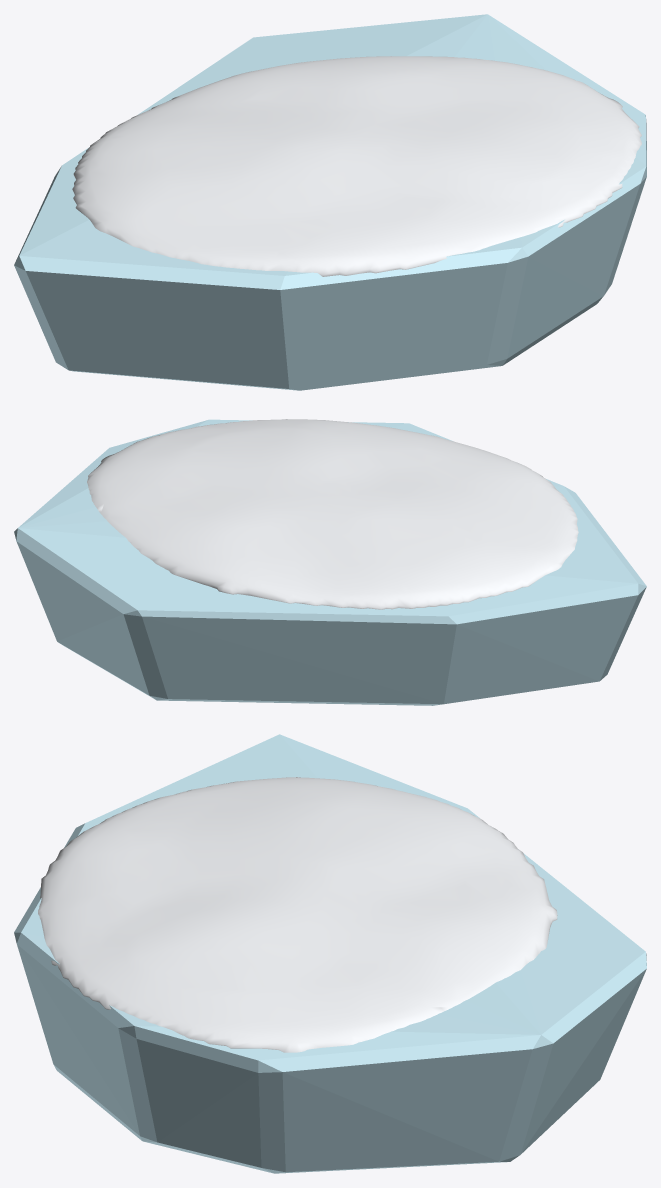
File: ice_floe_a.glb
3 renders of one model, top to bottom at view 1: azimuth 30°, elevation 25°; view 2: azimuth 150°, elevation 25°; view 3: azimuth 270°, elevation 25°, orthographic. The views are drawn at different scales.
Visible parts, largest first — view 1: FloeSnow0, Floe0; view 2: Floe0, FloeSnow0; view 3: FloeSnow0, Floe0.
Boxes of the visible parts, box(x1,y1,x2,y2) form: FloeSnow0: box(72, 56, 641, 276); Floe0: box(14, 14, 646, 390); Floe0: box(14, 419, 646, 705); FloeSnow0: box(87, 419, 578, 609); FloeSnow0: box(38, 777, 557, 1052); Floe0: box(14, 734, 646, 1173).
Bounding box in the file's own units: 4.39 × 1.02 × 3.58.
